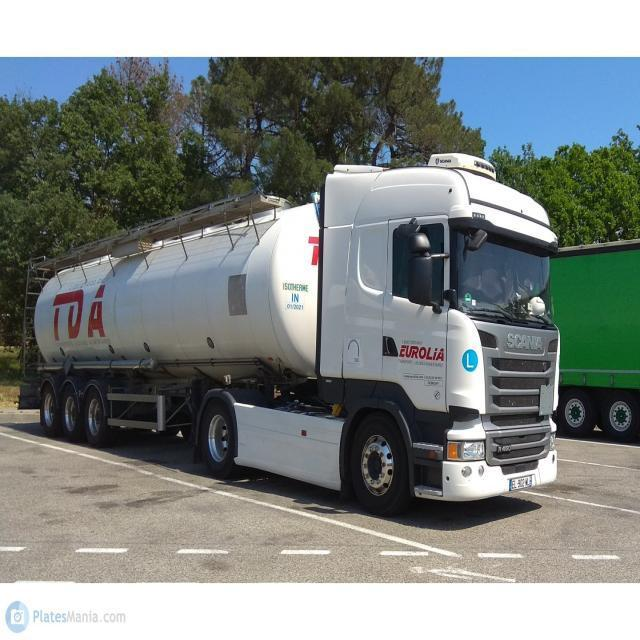Autre: (498, 470, 539, 494)
